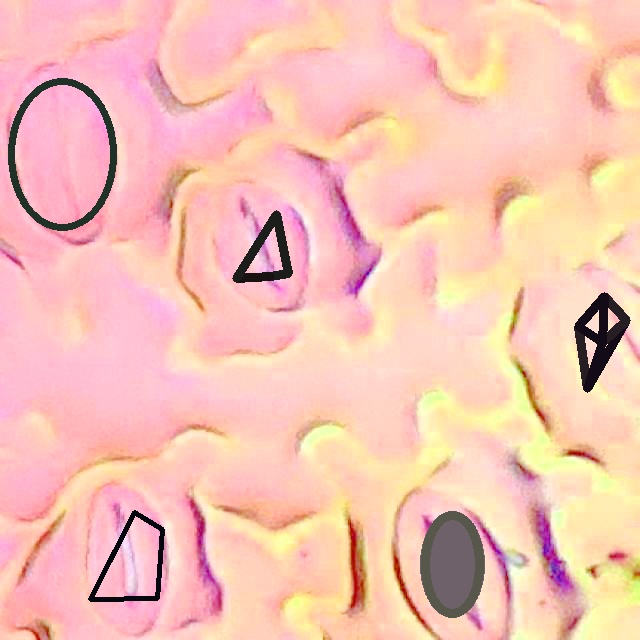close: (7, 76, 117, 231)
open: (88, 511, 164, 600), (421, 511, 484, 616), (574, 292, 629, 392), (232, 210, 292, 280)
